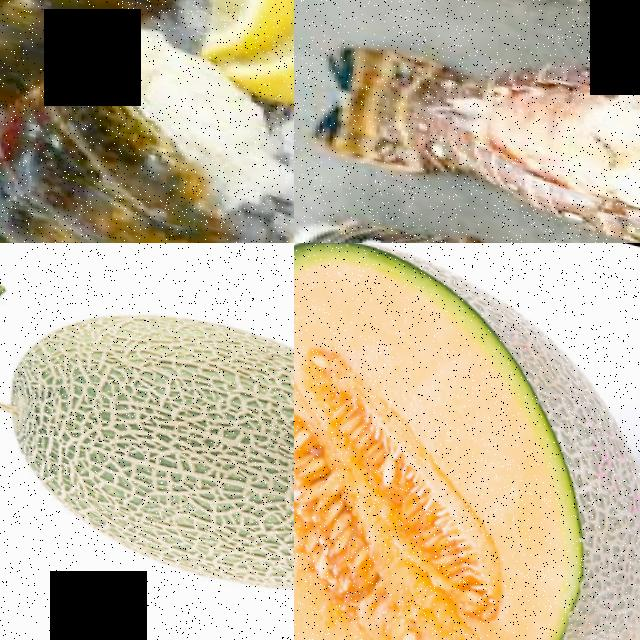lobster tails: (302, 3, 610, 219), (0, 28, 245, 243), (294, 183, 640, 243), (0, 0, 95, 151)
melon: (294, 243, 640, 640), (0, 254, 294, 617)
